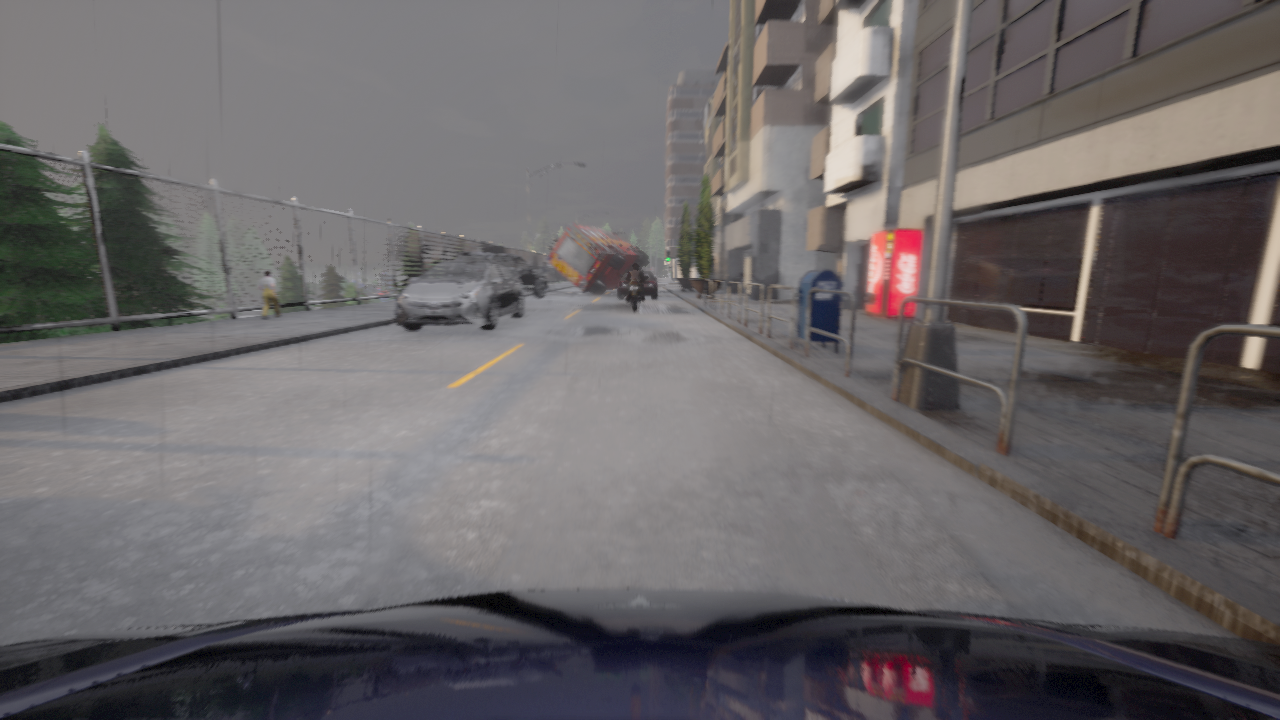cyclist: (0, 588, 1279, 719), (396, 260, 524, 330), (546, 222, 648, 293), (455, 252, 549, 297), (618, 272, 657, 298), (624, 276, 647, 311), (626, 269, 643, 271), (641, 268, 645, 271)
pedestrian: (259, 270, 281, 318), (541, 263, 549, 277)
